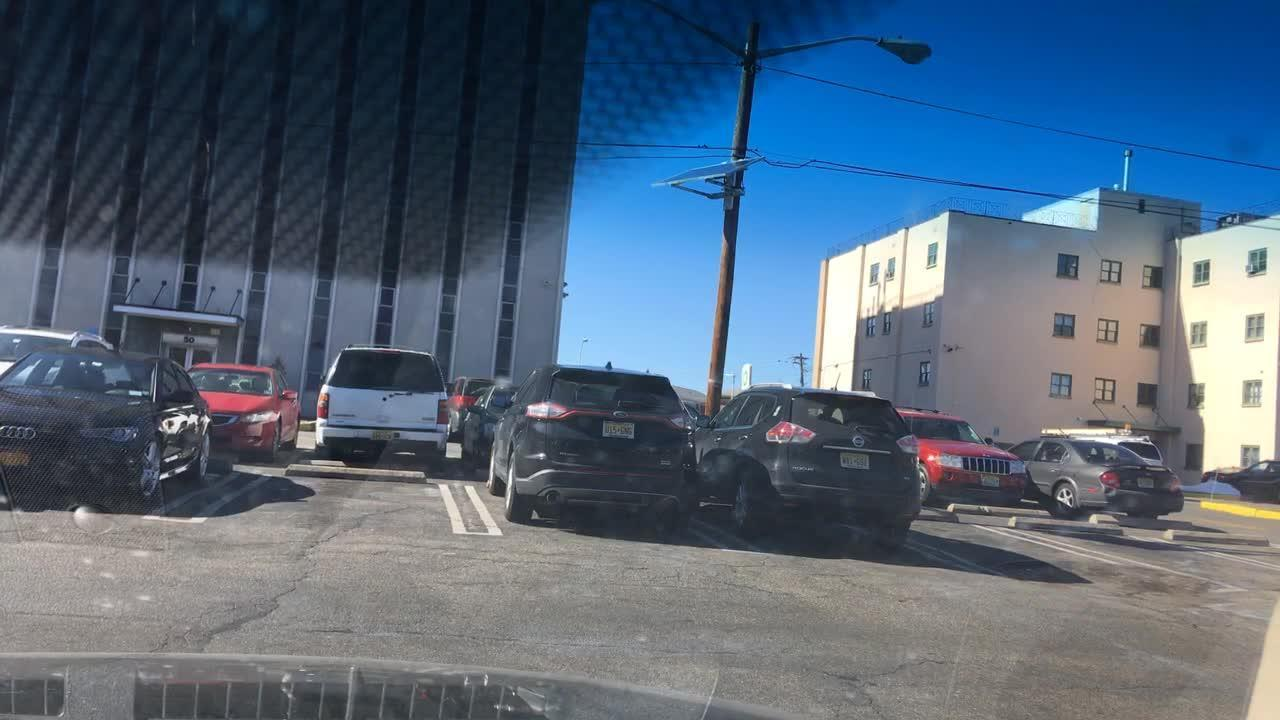Audi: (0, 416, 52, 453)
Nissan: (845, 430, 874, 453)
